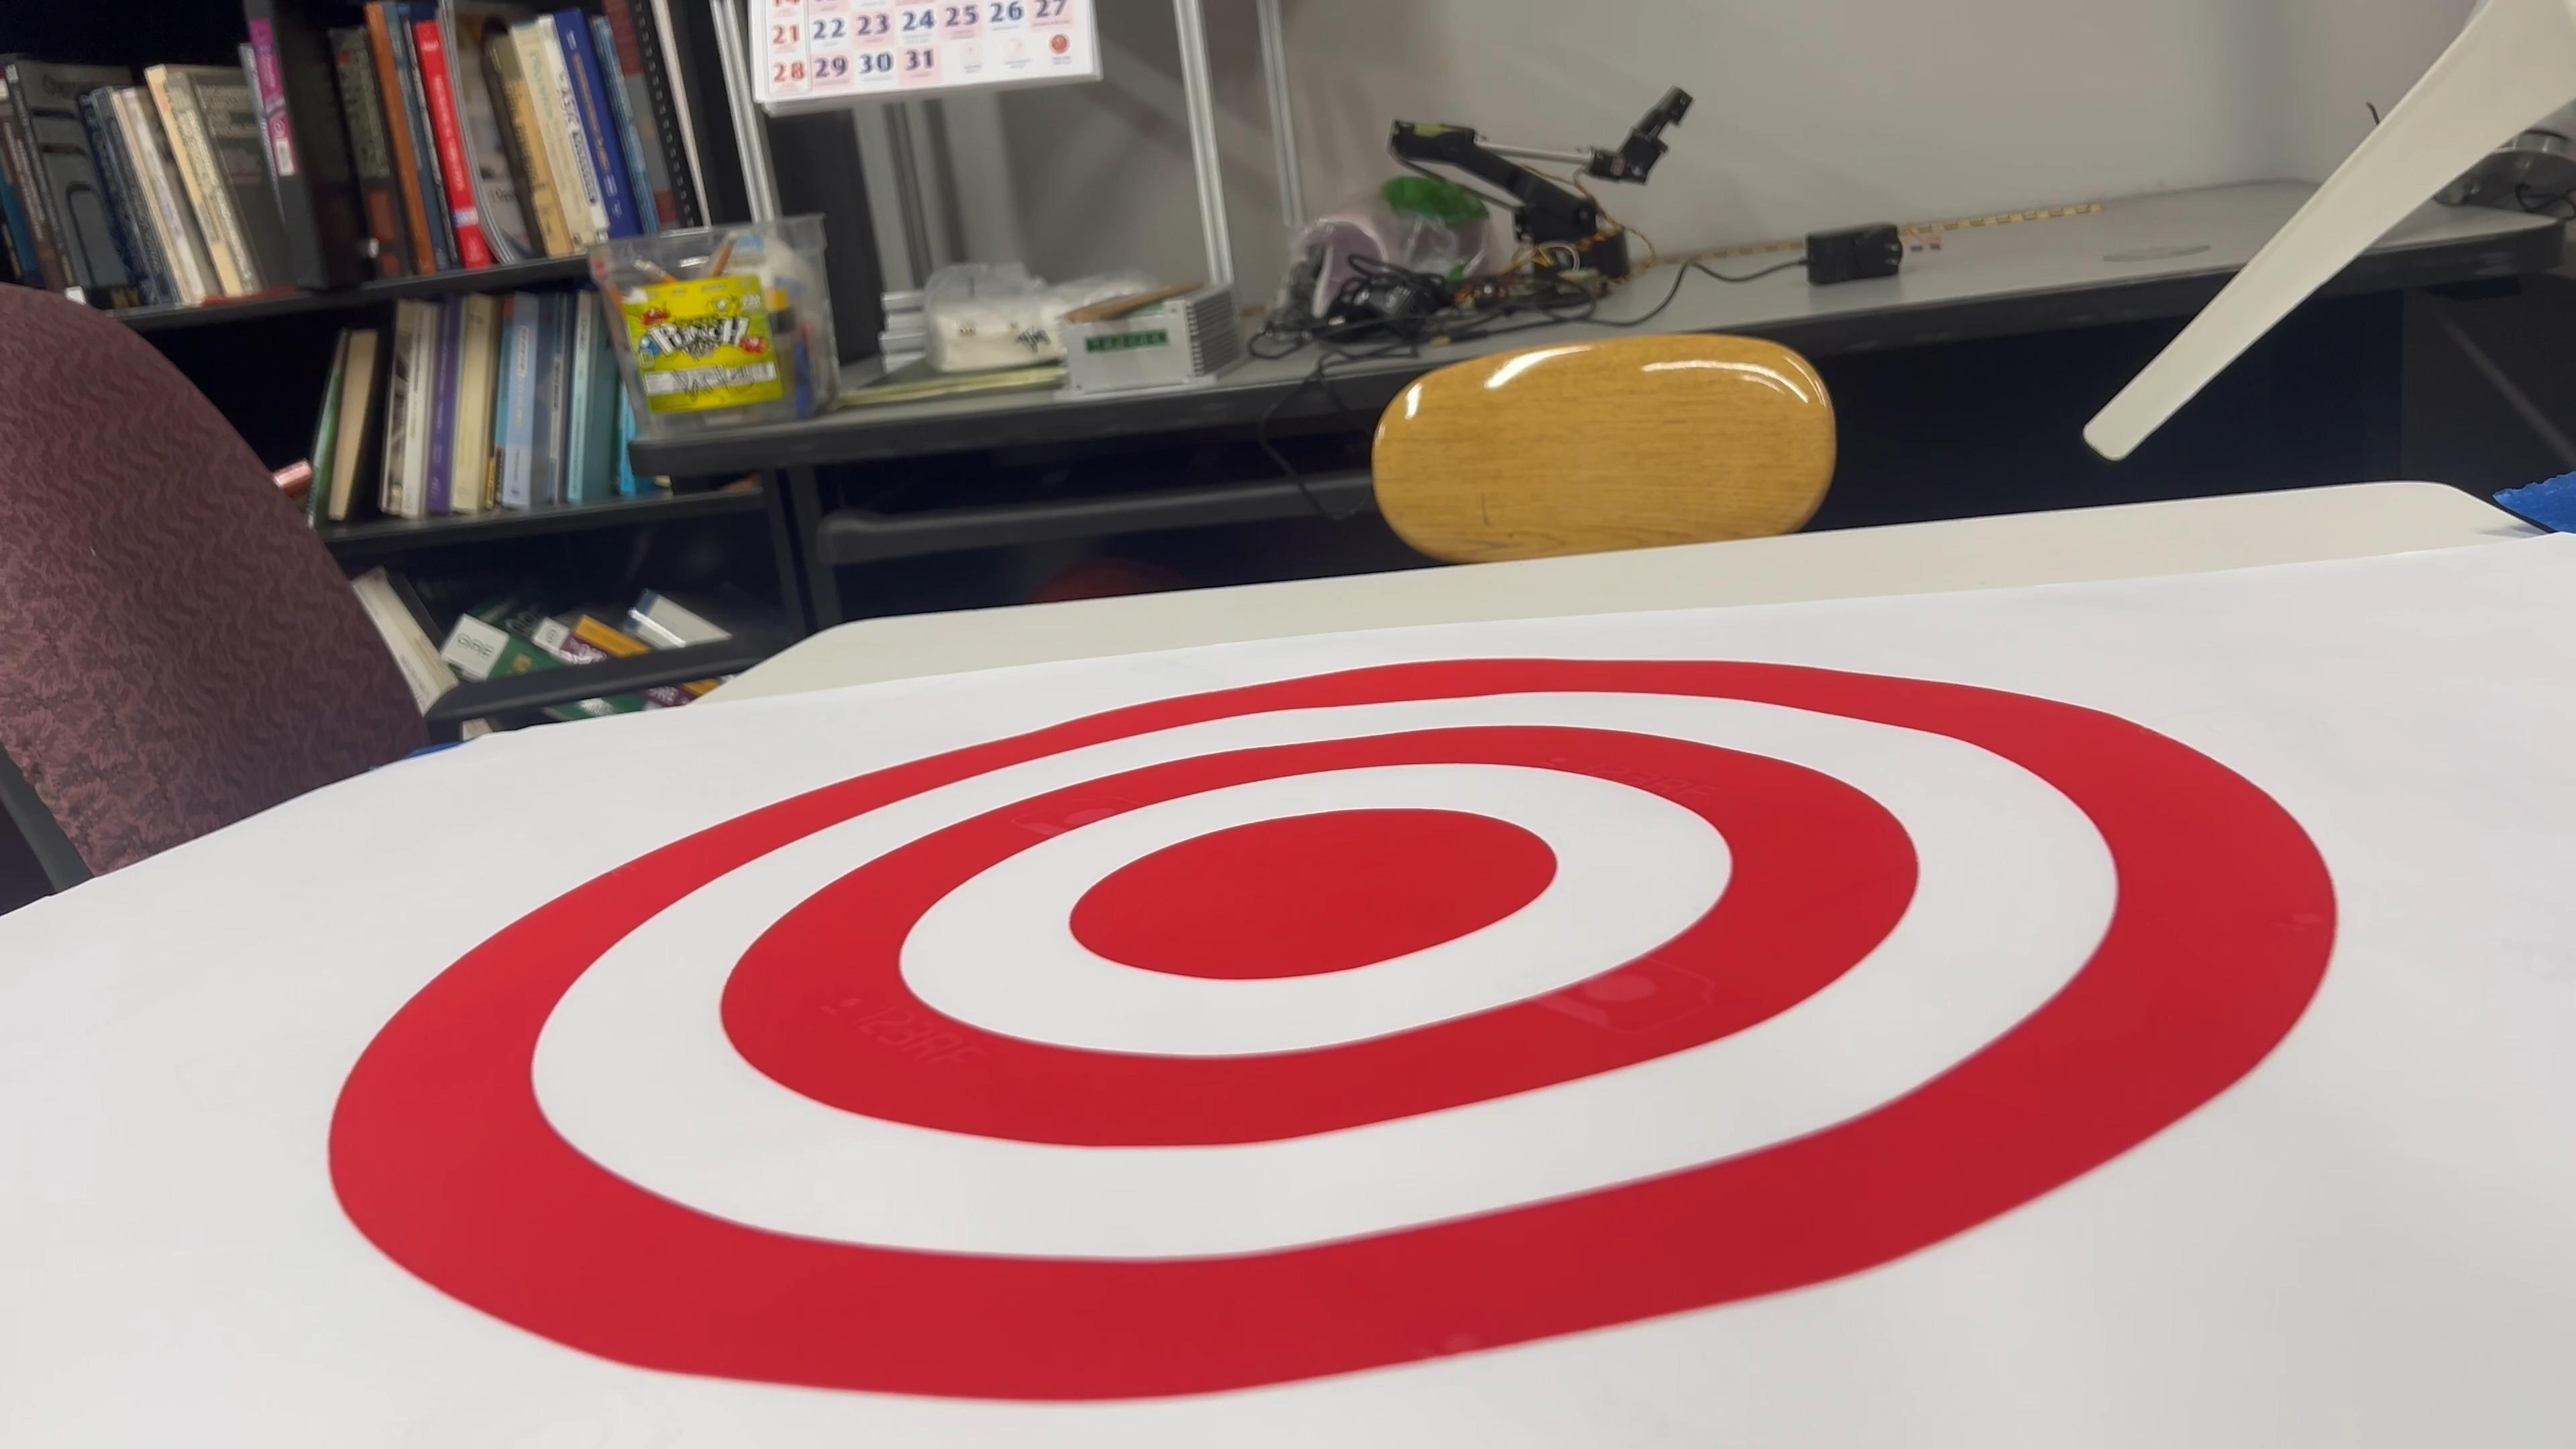target_red: (310, 612, 2374, 1431)
